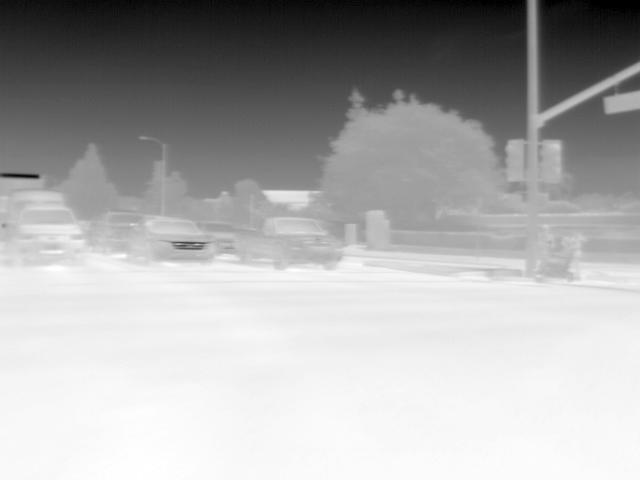car: (233, 213, 344, 271), (12, 204, 87, 268), (126, 214, 218, 264), (87, 207, 146, 255), (8, 190, 66, 225), (200, 221, 240, 255)
person: (563, 229, 589, 279), (538, 225, 555, 268)
